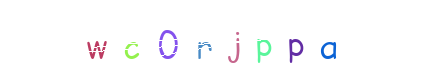0: (154, 0, 234, 80)
A: (256, 0, 336, 80)
C: (104, 0, 184, 80)
J: (180, 0, 260, 80)
P: (223, 0, 303, 80), (255, 0, 335, 80)
R: (173, 0, 253, 80)
W: (91, 0, 171, 80)
